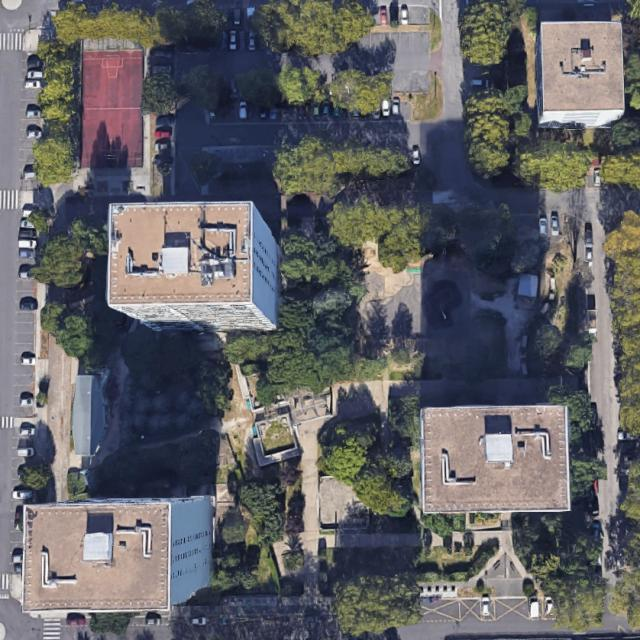immeuble: (19, 496, 216, 614), (106, 200, 281, 332), (419, 404, 570, 512), (534, 18, 625, 130)
